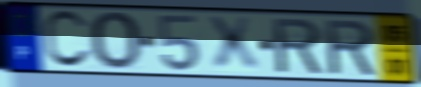5: (158, 14, 202, 73)
C: (40, 8, 93, 71)
O: (87, 10, 143, 72)
R: (269, 17, 326, 77), (322, 18, 378, 78)
X: (204, 16, 263, 74)
